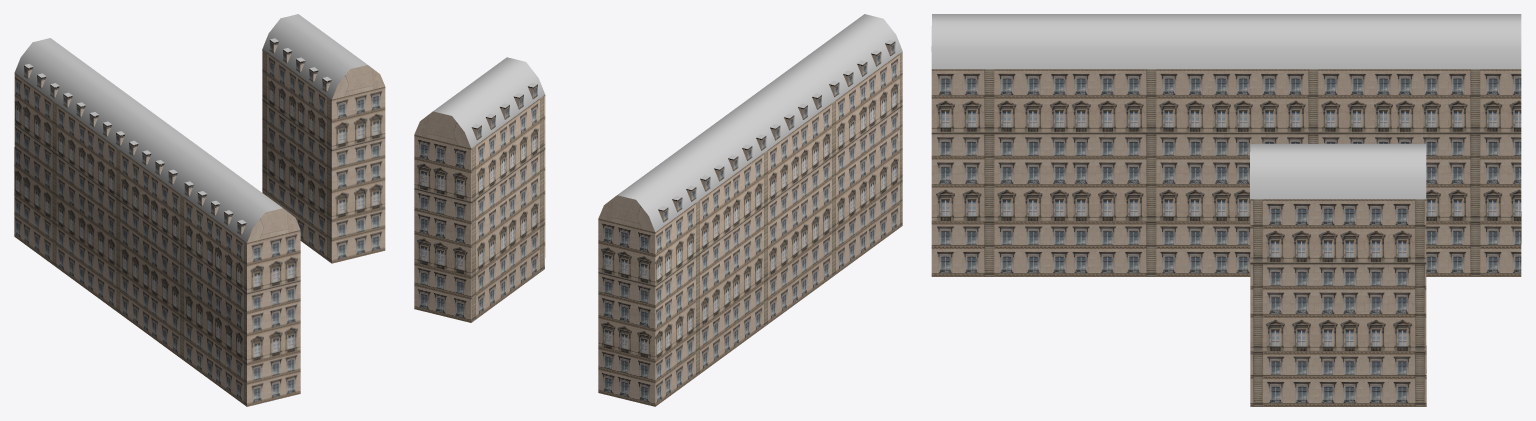
Rendered from Low_building_02.fbx.
The picture shows the model from 3 angles, left to right: view 1: azimuth 30°, elevation 25°; view 2: azimuth 150°, elevation 25°; view 3: azimuth 270°, elevation 25°; orthographic projection. The views are drawn at different scales.
Parts seen in each view (by area): view 1: lowbuilding_A, lowbuilding_B; view 2: lowbuilding_A, lowbuilding_B; view 3: lowbuilding_A, lowbuilding_B.
Part boxes in pixels (<box>): lowbuilding_A: <box>14,38,300,406</box>; lowbuilding_B: <box>262,14,385,263</box>; lowbuilding_A: <box>598,14,902,406</box>; lowbuilding_B: <box>414,57,545,322</box>; lowbuilding_A: <box>931,14,1521,276</box>; lowbuilding_B: <box>1250,144,1426,406</box>.
Size of the model in its own units: 107320 by 73855 by 163955.
